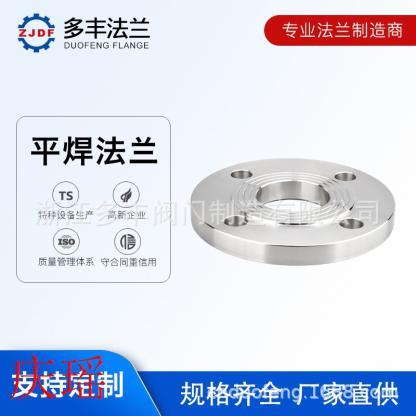FOD: (186, 152, 400, 269)
